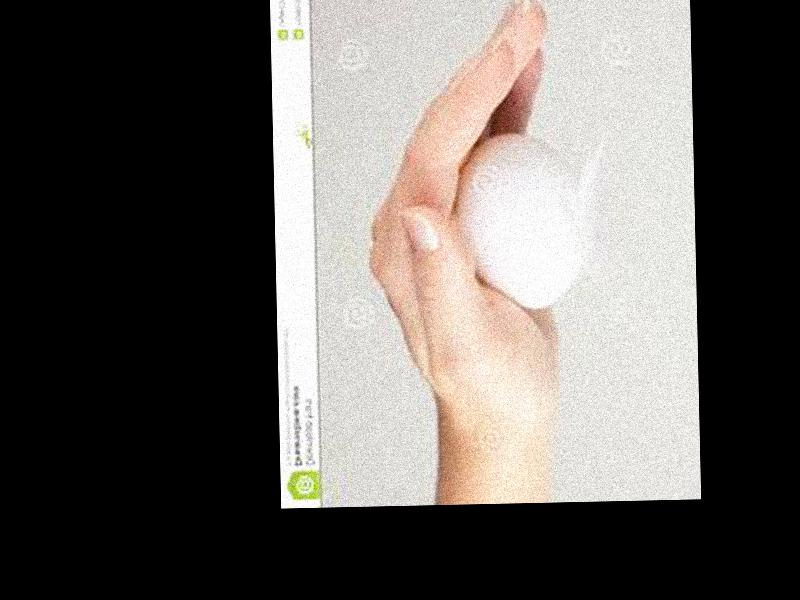Eggs: (455, 129, 581, 311)
